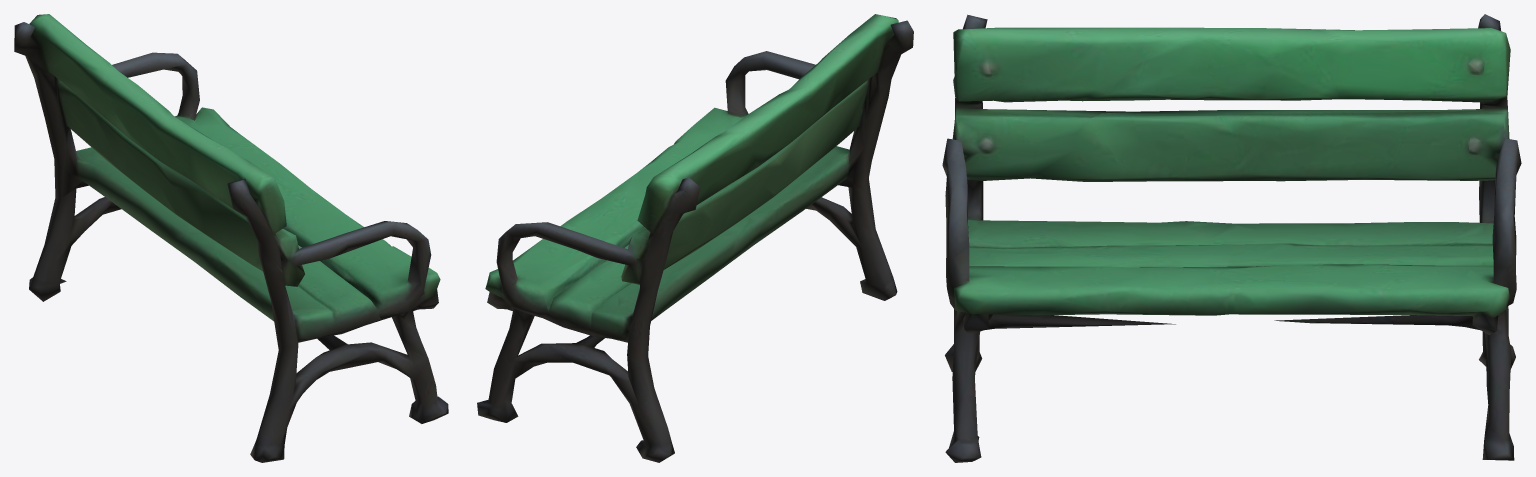
Rendered from bench.glb.
3 renders of one model, left to right at view 1: azimuth 30°, elevation 25°; view 2: azimuth 150°, elevation 25°; view 3: azimuth 270°, elevation 25°, orthographic. The views are drawn at different scales.
Visible parts, largest first — view 1: tripo_node_beec4618-5e78-4079-a685-9d3507b8205a; view 2: tripo_node_beec4618-5e78-4079-a685-9d3507b8205a; view 3: tripo_node_beec4618-5e78-4079-a685-9d3507b8205a.
Part boxes in pixels (x1,y1,x2,y2): tripo_node_beec4618-5e78-4079-a685-9d3507b8205a: (14,14,448,462); tripo_node_beec4618-5e78-4079-a685-9d3507b8205a: (477,14,913,462); tripo_node_beec4618-5e78-4079-a685-9d3507b8205a: (942,14,1521,462).
Bounding box in the file's own units: 0.5105 × 0.6417 × 1.
1 material, 1 textured.
